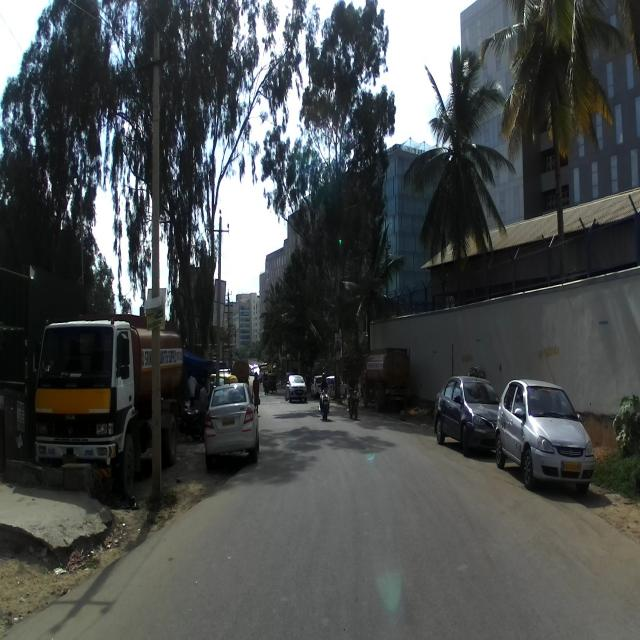car: (495, 376, 595, 494), (432, 376, 500, 454), (203, 382, 260, 464)
truck: (30, 310, 184, 497)
